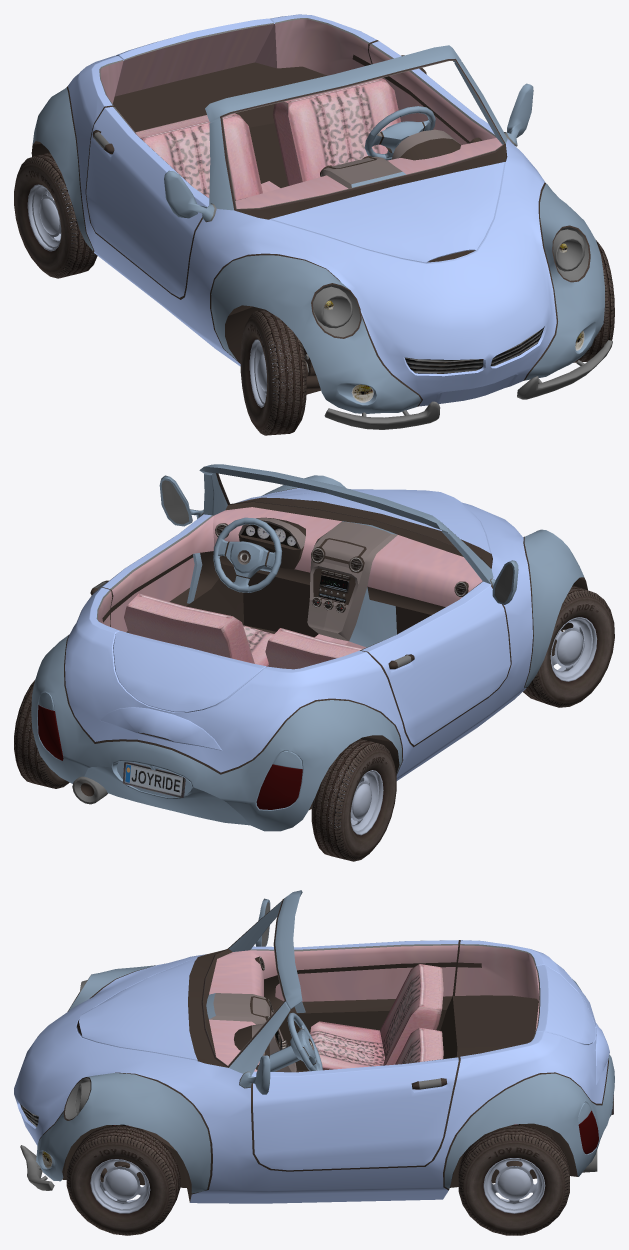
File: car3.glb
The picture shows the model from 3 angles, top to bottom: view 1: azimuth 30°, elevation 25°; view 2: azimuth 150°, elevation 25°; view 3: azimuth 270°, elevation 25°; orthographic projection. The views are drawn at different scales.
Visible parts, largest first — view 1: Body4.25, polySurface3.13, wheel2.23, wheel3.24, polySurface4.14, bumper_front.7, polySurface5.15, polySurface2.10, wheel.21, polySurface1.9; view 2: Body4.25, wheel3.24, wheel2.23, polySurface3.13, polySurface5.15, polySurface4.14, wheel1.22, License_plate.6, polySurface1.9, polySurface2.10, exhaust.11; view 3: Body4.25, wheel1.22, wheel.21, polySurface4.14, polySurface5.15, polySurface3.13, polySurface1.9, bumper_front.7.
Boxes of the visible parts, left/top/right/bottom form: Body4.25: left=31, top=14, right=604, bottom=413; polySurface3.13: left=273, top=78, right=400, bottom=185; wheel2.23: left=240, top=310, right=306, bottom=435; wheel3.24: left=14, top=152, right=97, bottom=278; polySurface4.14: left=135, top=113, right=262, bottom=200; bumper_front.7: left=324, top=340, right=612, bottom=429; polySurface5.15: left=364, top=106, right=435, bottom=160; polySurface2.10: left=164, top=170, right=216, bottom=222; wheel.21: left=573, top=240, right=614, bottom=362; polySurface1.9: left=504, top=83, right=533, bottom=146; Body4.25: left=31, top=464, right=587, bottom=831; wheel3.24: left=311, top=739, right=396, bottom=861; wheel2.23: left=523, top=585, right=614, bottom=707; polySurface3.13: left=124, top=593, right=273, bottom=666; polySurface5.15: left=213, top=517, right=282, bottom=592; polySurface4.14: left=265, top=628, right=363, bottom=669; wheel1.22: left=14, top=680, right=69, bottom=788; License_plate.6: left=122, top=762, right=185, bottom=797; polySurface1.9: left=159, top=475, right=203, bottom=526; polySurface2.10: left=490, top=560, right=518, bottom=604; exhaust.11: left=72, top=776, right=107, bottom=804; Body4.25: left=14, top=890, right=614, bottom=1203; wheel1.22: left=458, top=1124, right=569, bottom=1235; wheel.21: left=66, top=1125, right=180, bottom=1235; polySurface4.14: left=310, top=964, right=443, bottom=1070; polySurface5.15: left=269, top=1012, right=322, bottom=1071; polySurface3.13: left=395, top=1027, right=443, bottom=1064; polySurface1.9: left=239, top=1055, right=270, bottom=1094; bumper_front.7: left=20, top=1145, right=54, bottom=1190.
Bounding box in the file's own units: 0.0171 × 0.0111 × 0.0269.
Materials: 51 (49 with a texture image).
